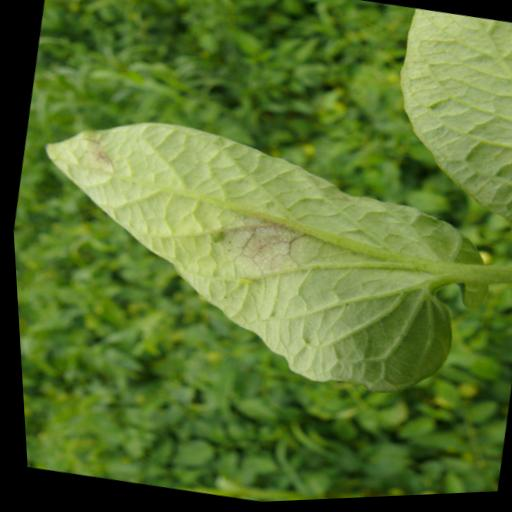Late Blight: (5, 82, 512, 440)
